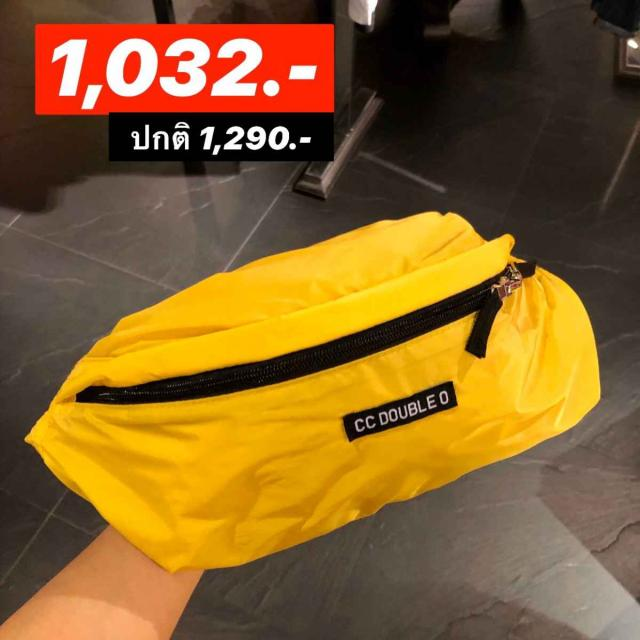Handbag: (26, 212, 601, 572)
